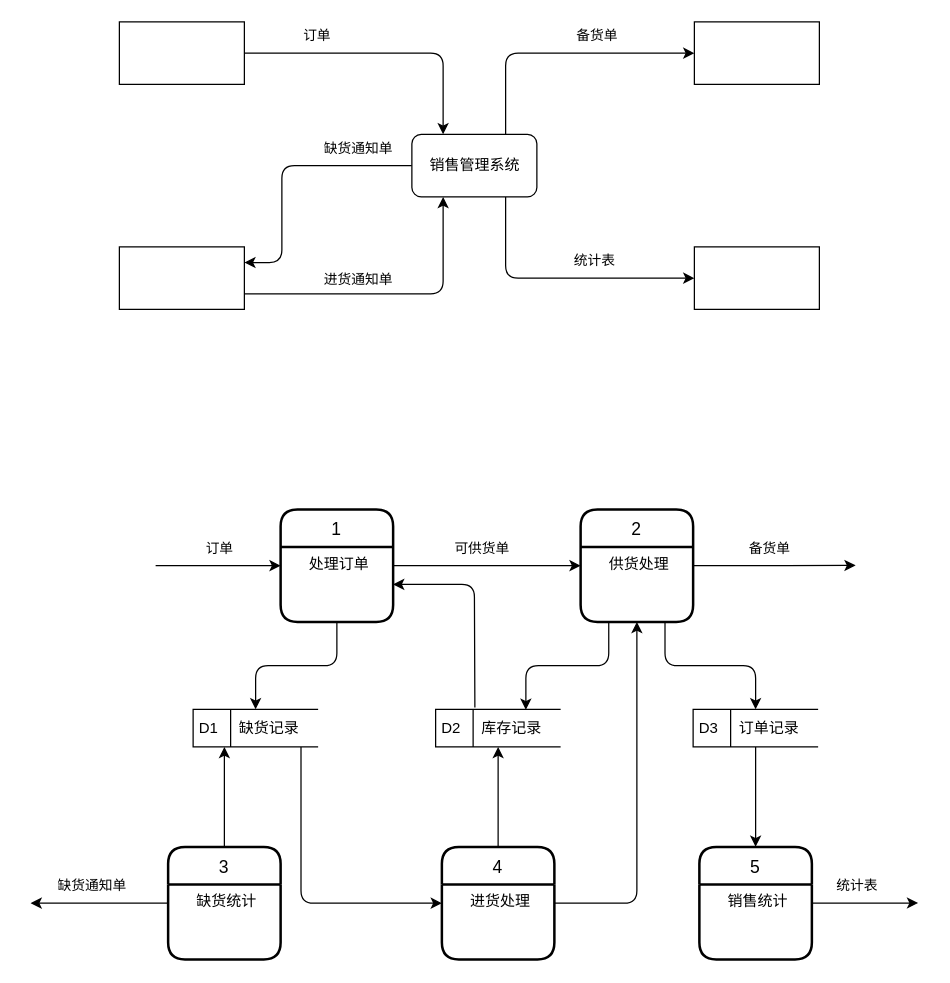
Image size: 950x983. Some labels were removed from this diagram. The box of each missing label's shape, as (x1, y1, x2, y2) in pixels:
仓库: (693, 21, 819, 84)
经理: (693, 246, 819, 309)
采购部门: (118, 246, 244, 309)
顾客: (118, 21, 244, 84)
